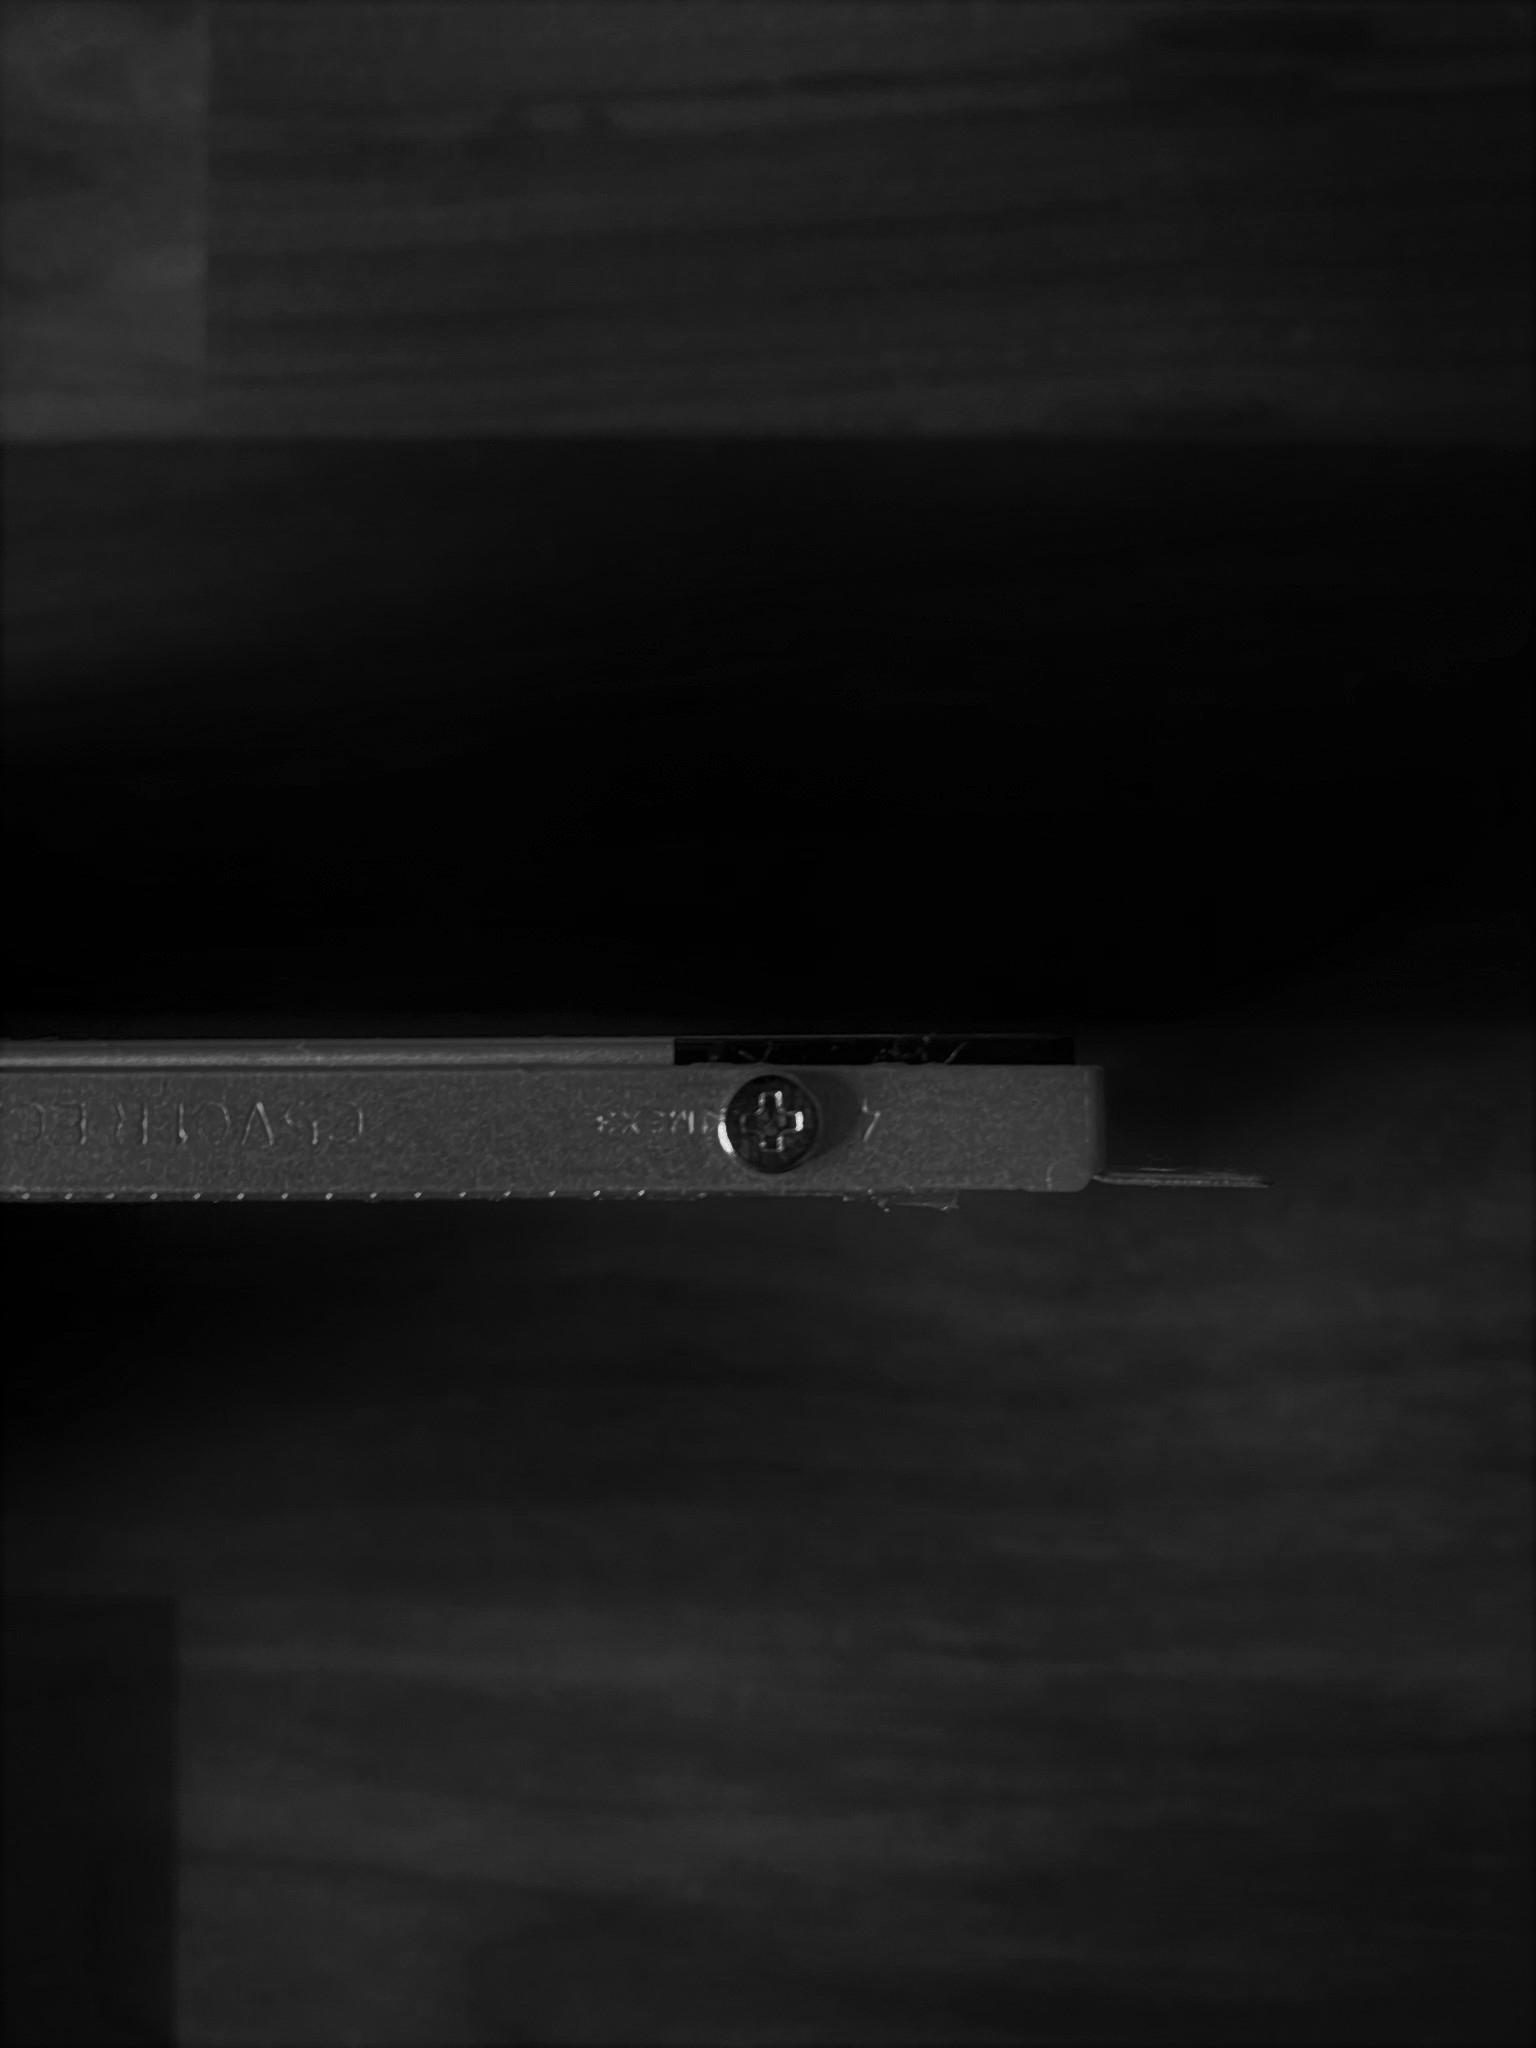philips-PZ: (718, 1068, 821, 1176)
